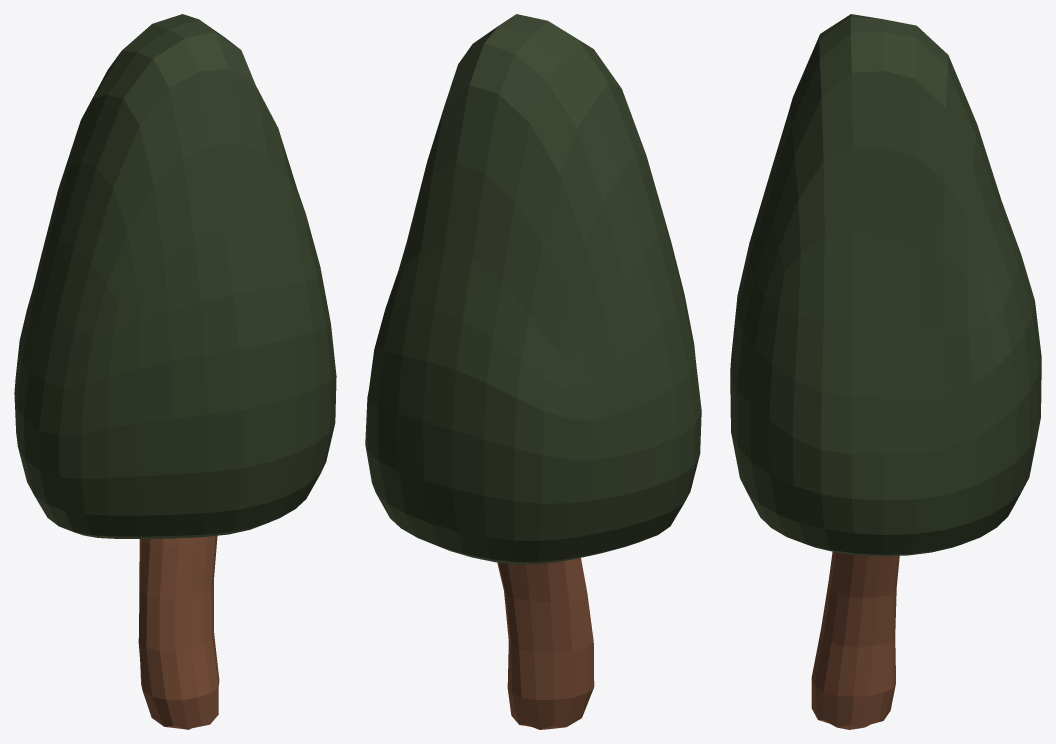
The model's file is tree 3 final.fbx.
The picture shows the model from 3 angles, left to right: view 1: azimuth 30°, elevation 25°; view 2: azimuth 150°, elevation 25°; view 3: azimuth 270°, elevation 25°; orthographic projection. The views are drawn at different scales.
Parts seen in each view (by area): view 1: Cube.001; view 2: Cube.001; view 3: Cube.001.
Part boxes in pixels (x1,y1,x2,y2): Cube.001: (14,14,336,729); Cube.001: (365,14,701,729); Cube.001: (730,14,1041,729).
Bounding box in the file's own units: 3.03 × 2.8 × 7.07.
